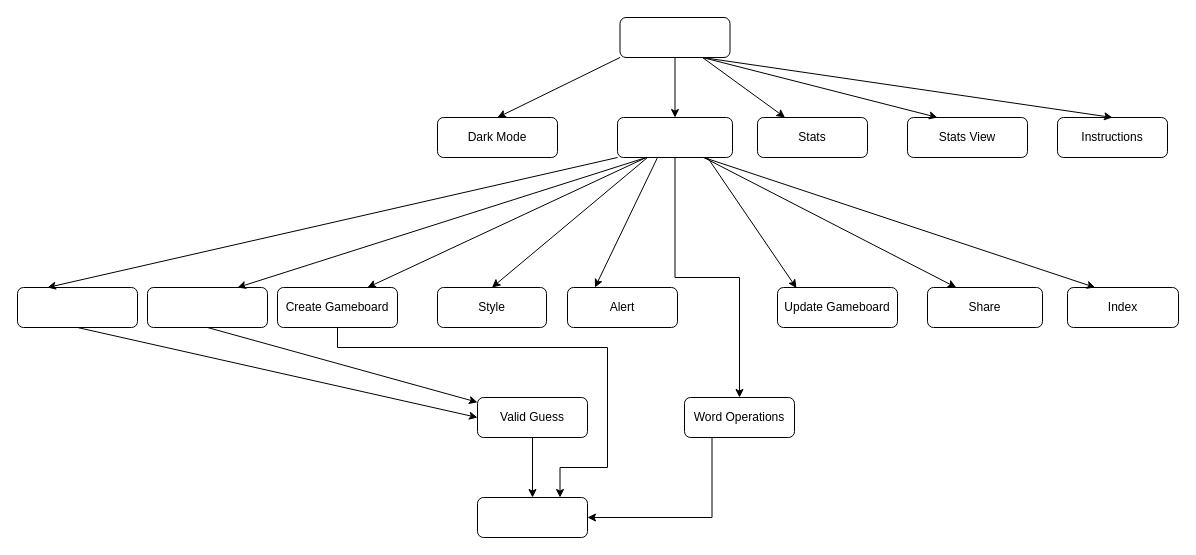
This 1196x555 diagram has some shape labels left out. Here are the shapes that lost their labels. From the top down, the centre of each, then its label:
At [674,37]: "Main".
At [674,137]: "Click".
At [77,307]: "Keyboard Colours".
At [207,307]: "Tile Colours".
At [532,517]: "Constants".
